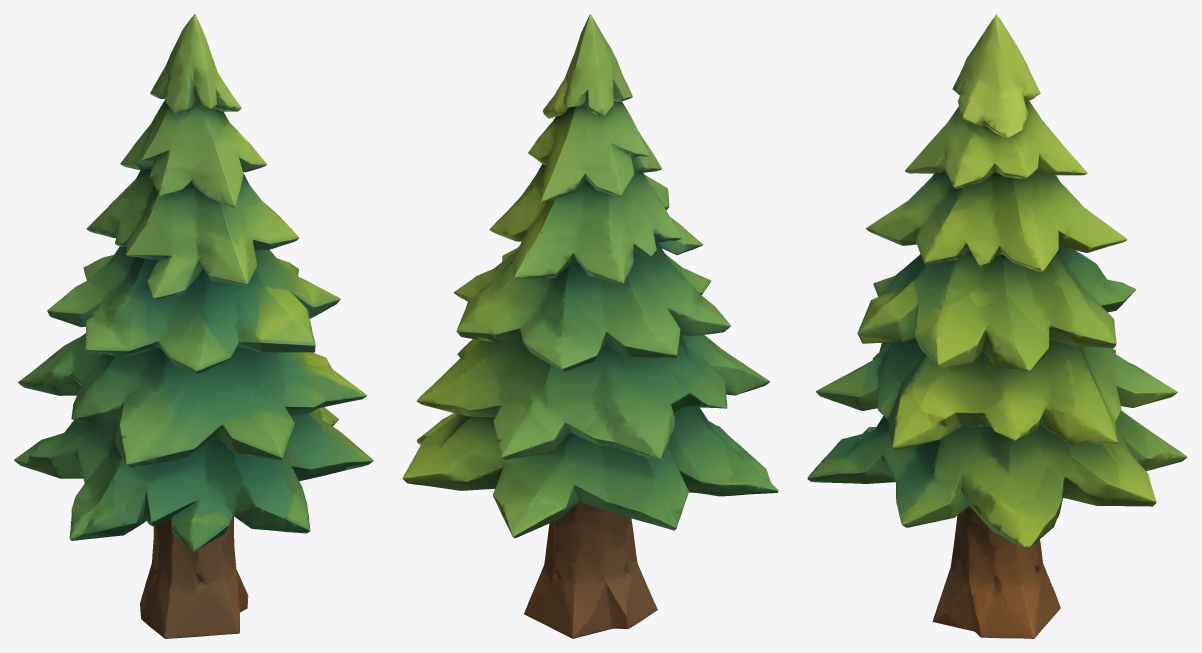
The model's file is forest_cluster_small.glb.
The picture shows the model from 3 angles, left to right: view 1: azimuth 30°, elevation 25°; view 2: azimuth 150°, elevation 25°; view 3: azimuth 270°, elevation 25°; orthographic projection.
Visible parts, largest first — view 1: tripo_node_e7ed1940-4f55-41fe-b98e-9c6e84138bfb; view 2: tripo_node_e7ed1940-4f55-41fe-b98e-9c6e84138bfb; view 3: tripo_node_e7ed1940-4f55-41fe-b98e-9c6e84138bfb.
Boxes of the visible parts, x1,y1,x2,y2 form: tripo_node_e7ed1940-4f55-41fe-b98e-9c6e84138bfb: [14, 14, 373, 638]; tripo_node_e7ed1940-4f55-41fe-b98e-9c6e84138bfb: [402, 14, 778, 638]; tripo_node_e7ed1940-4f55-41fe-b98e-9c6e84138bfb: [807, 14, 1187, 638].
Bounding box in the file's own units: 0.5494 × 1 × 0.5725.
1 material, 1 textured.
